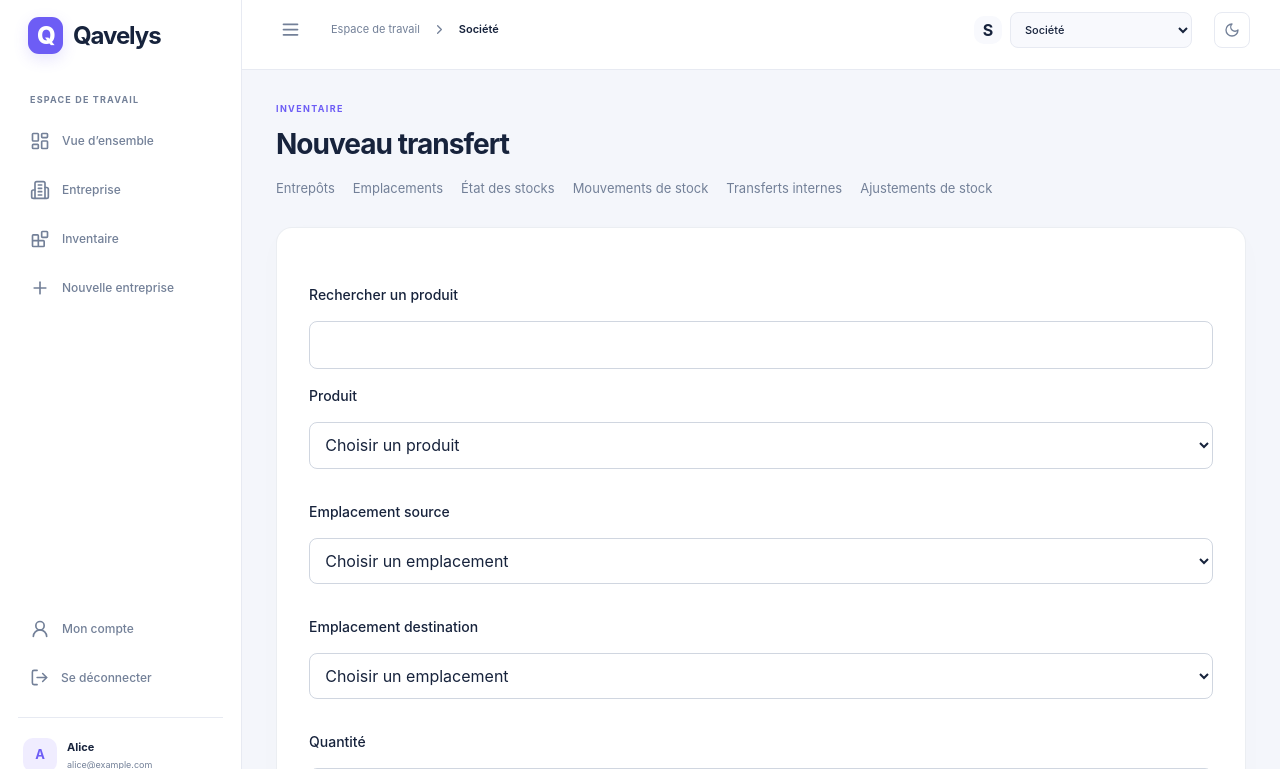
Test: Inventaire connecté › affiche le refus du serveur et conserve le formulaire de transfert
The width and height of the screenshot is (1280, 769).
Select "ART — Article" in the dropdown labelled "Produit": [761, 446] box 309,422 -> 1213,469
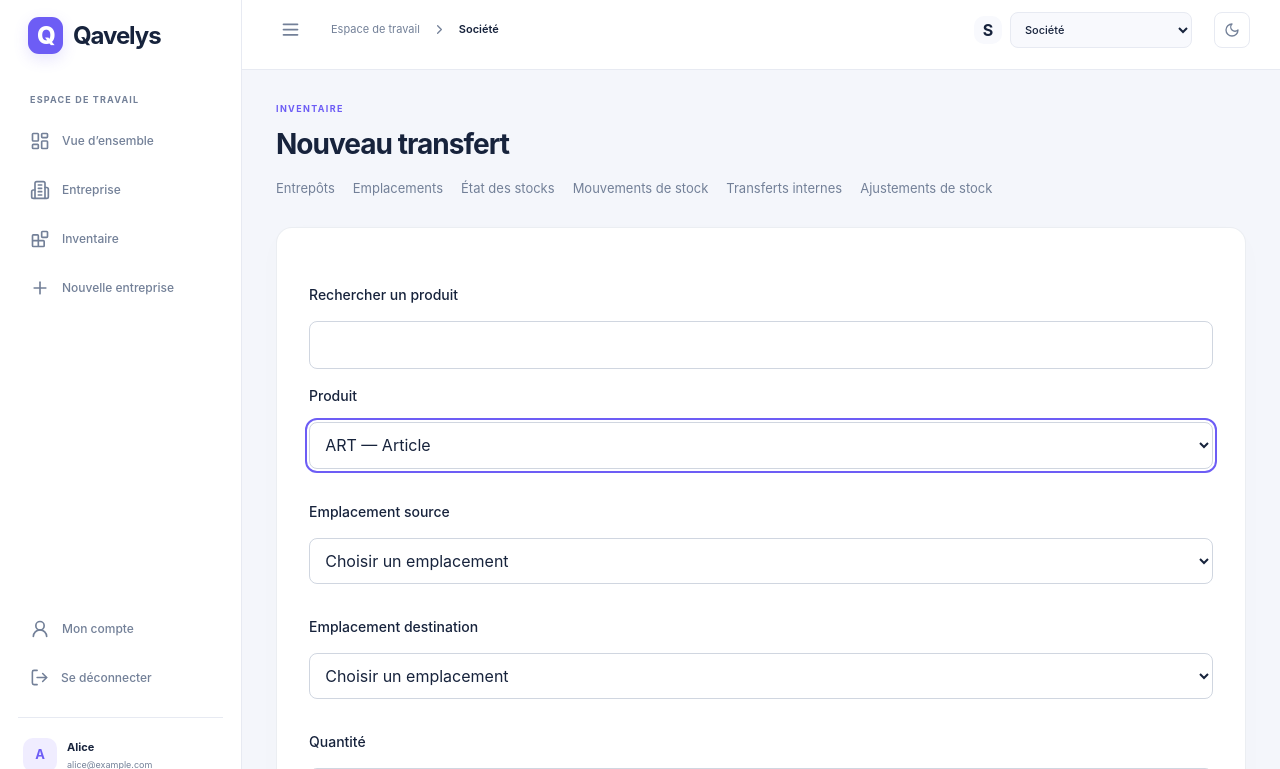
Select "MAIN / Stock" in the dropdown labelled "Emplacement source": [761, 561] box 309,538 -> 1213,584
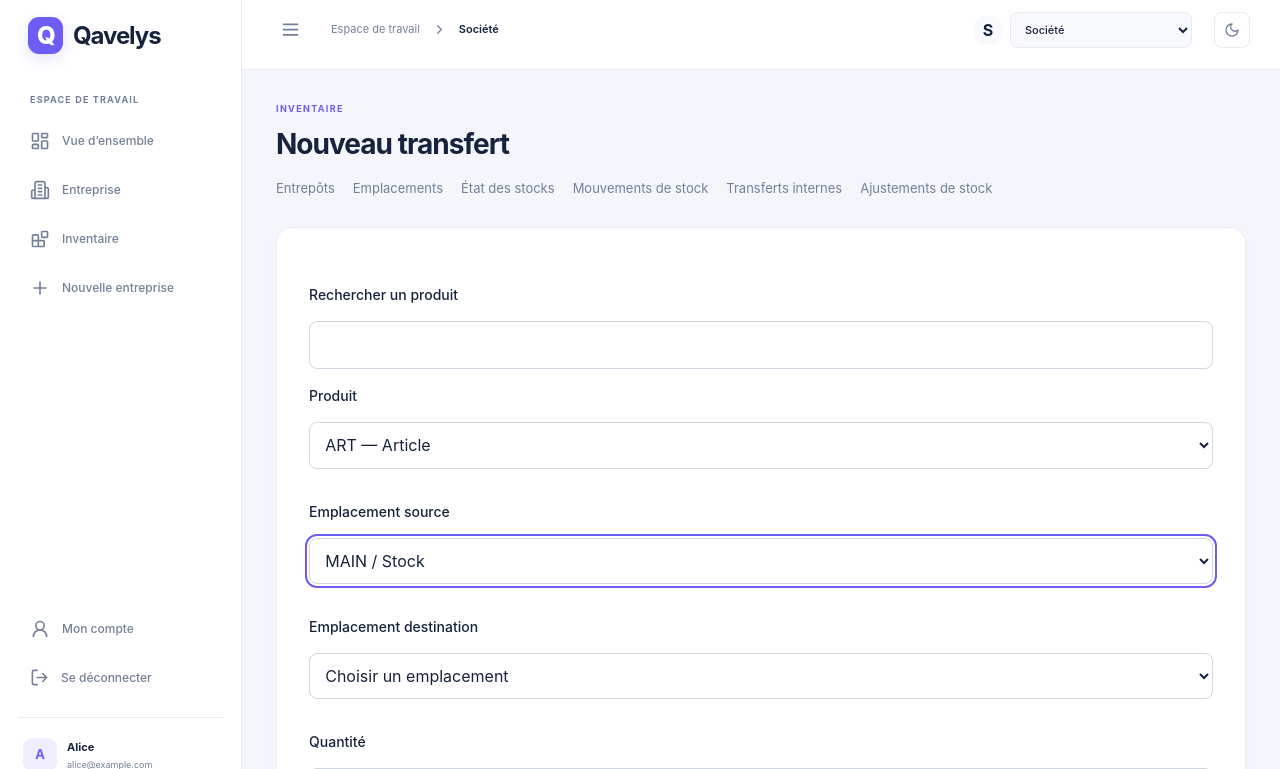
Select "SEC / Stock" in the dropdown labelled "Emplacement destination": [761, 676] box 309,653 -> 1213,699
(page scrolled)
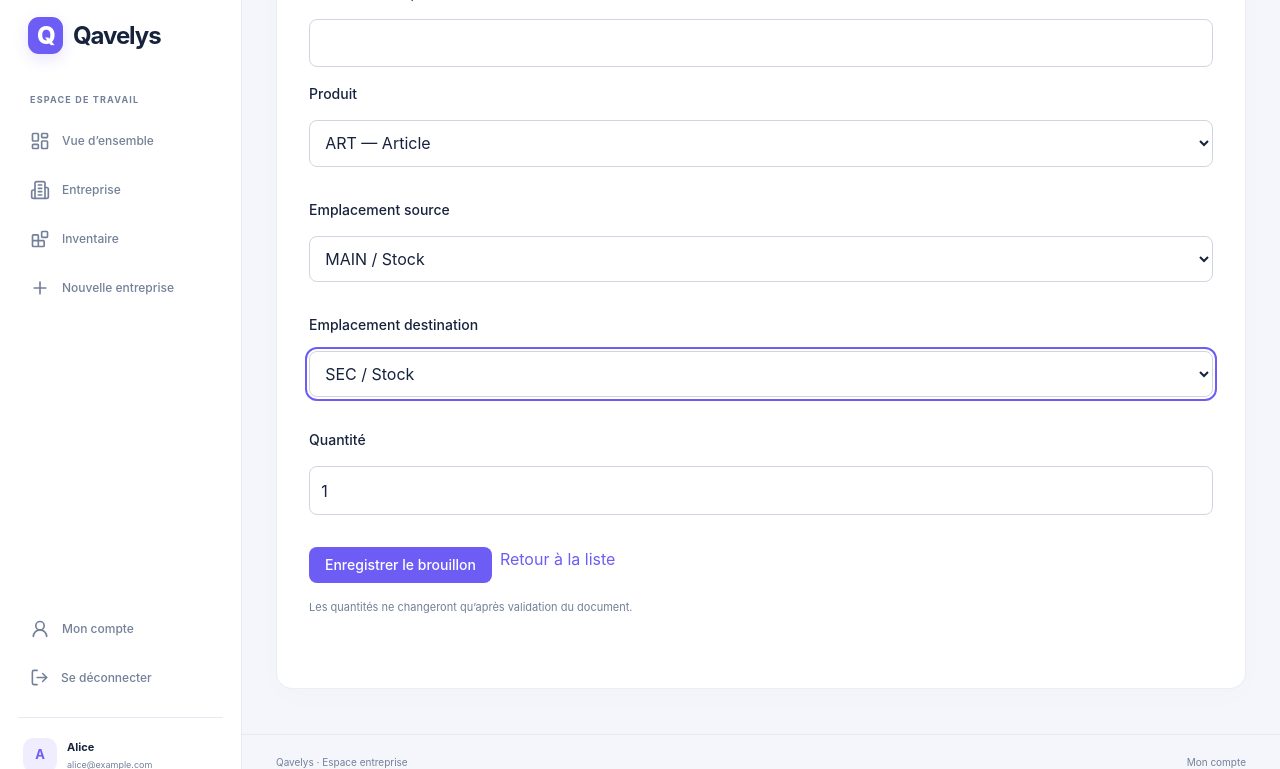
Click the button "Enregistrer le brouillon": [400, 565] box 309,547 -> 492,583
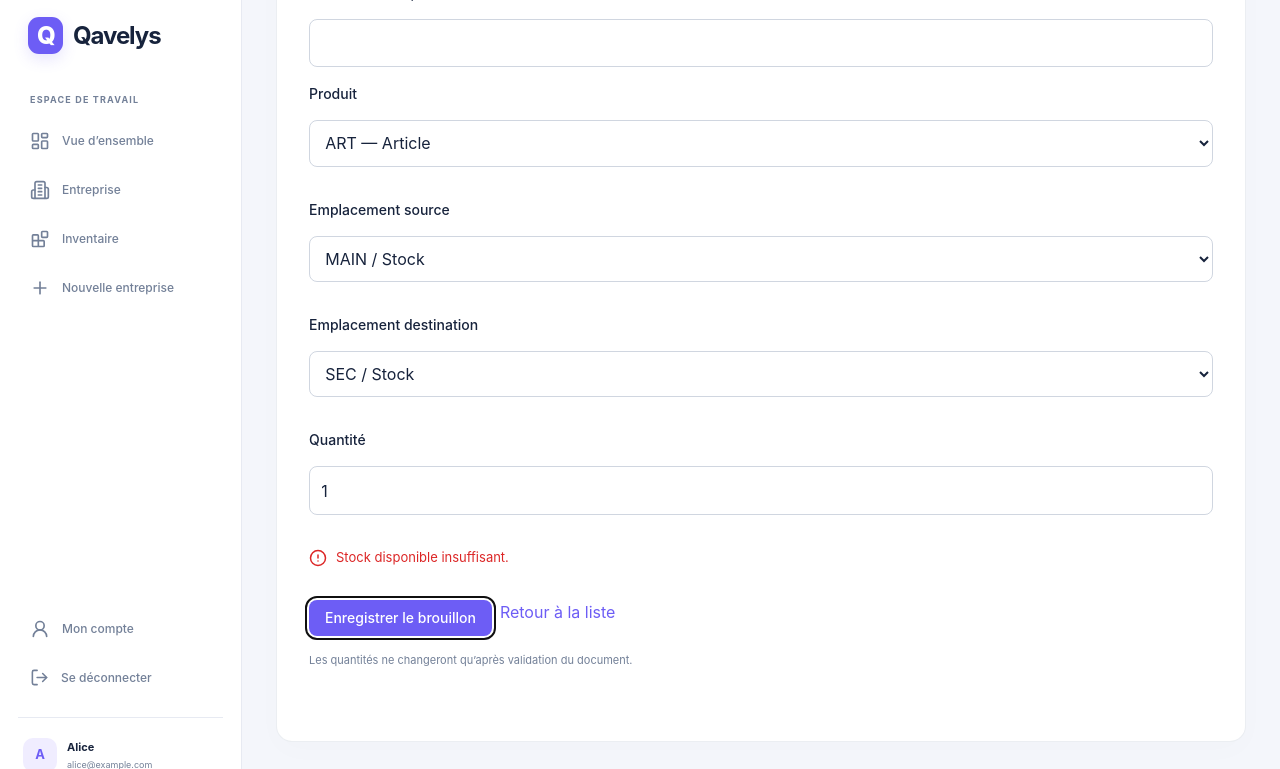
Now the text "Stock disponible insuffisant." is shown, box 309,549 -> 509,567
